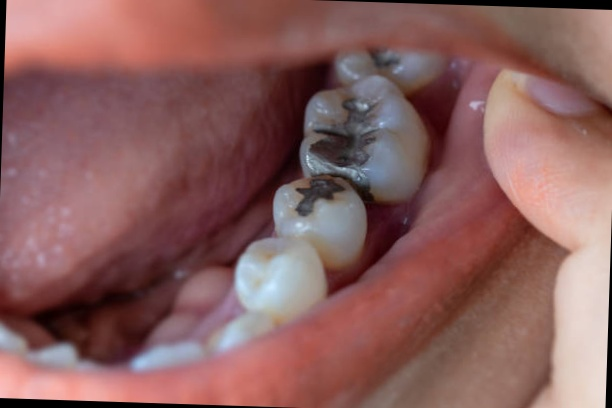Caries: (281, 85, 388, 224)
